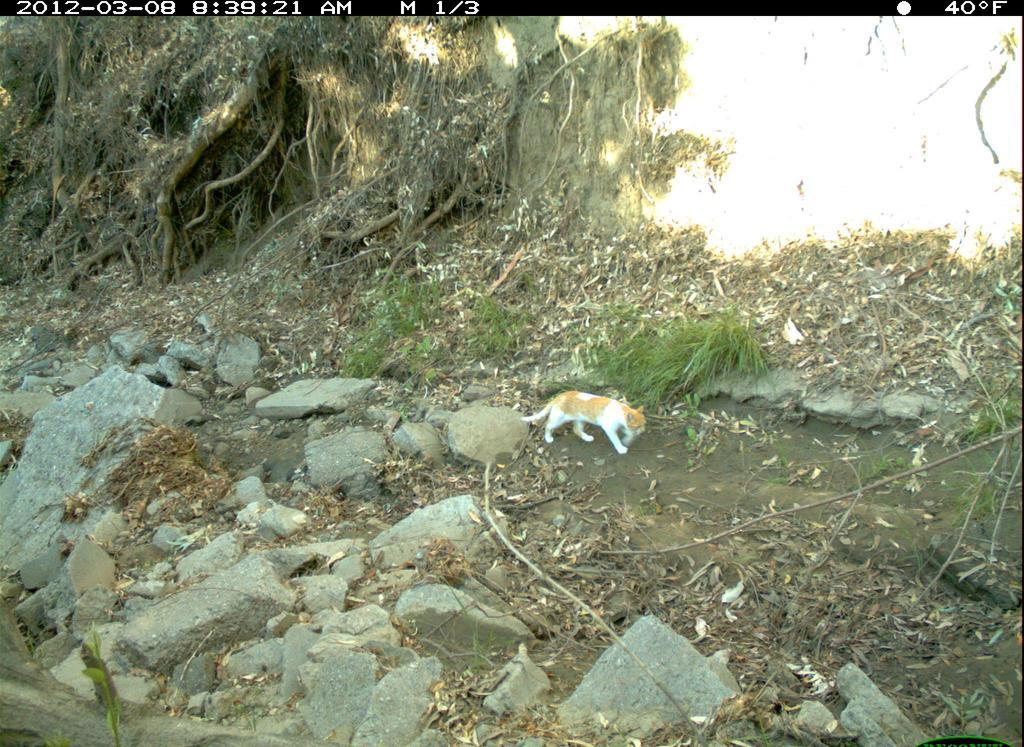cat: (518, 388, 652, 464)
